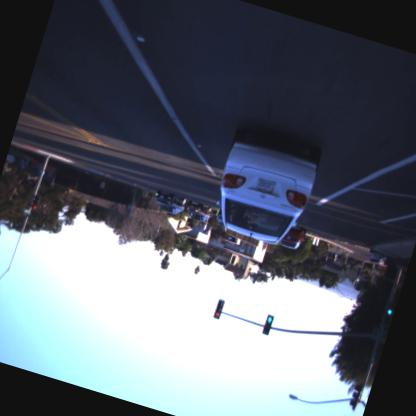trafficlight: (260, 313, 276, 336), (212, 298, 226, 321)
